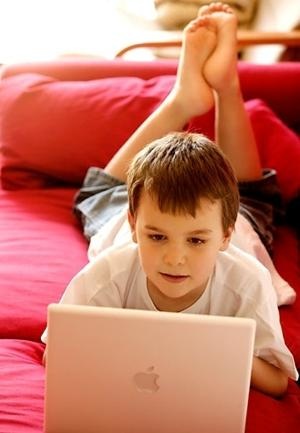person: (41, 3, 300, 400)
